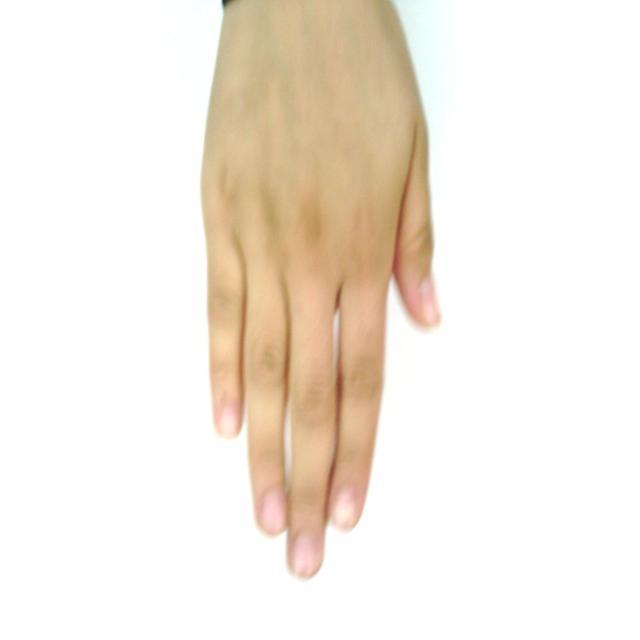Fingernail: (262, 492, 286, 534), (293, 535, 317, 577), (333, 490, 357, 530), (422, 277, 440, 323), (219, 406, 237, 437)
